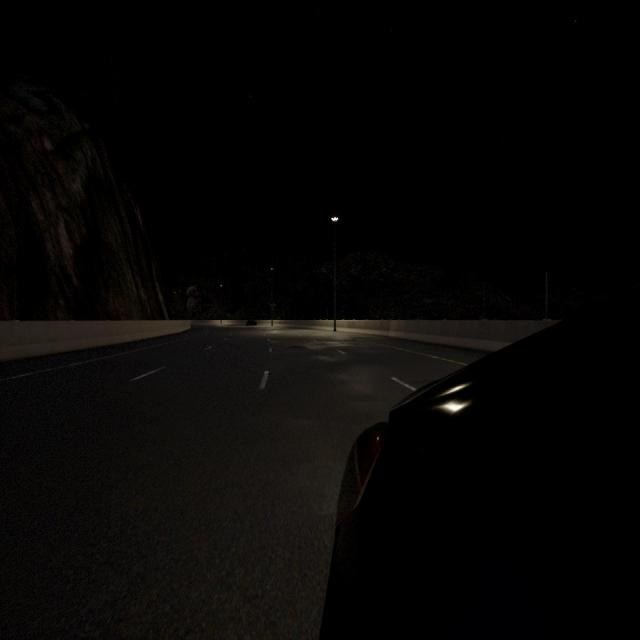Vehicle: (320, 286, 640, 637), (246, 320, 257, 325)
